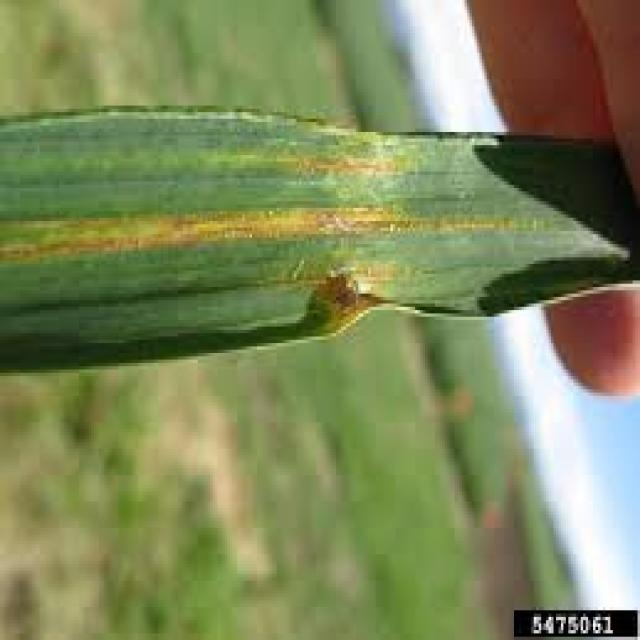leaf_blight: (0, 106, 638, 369)
